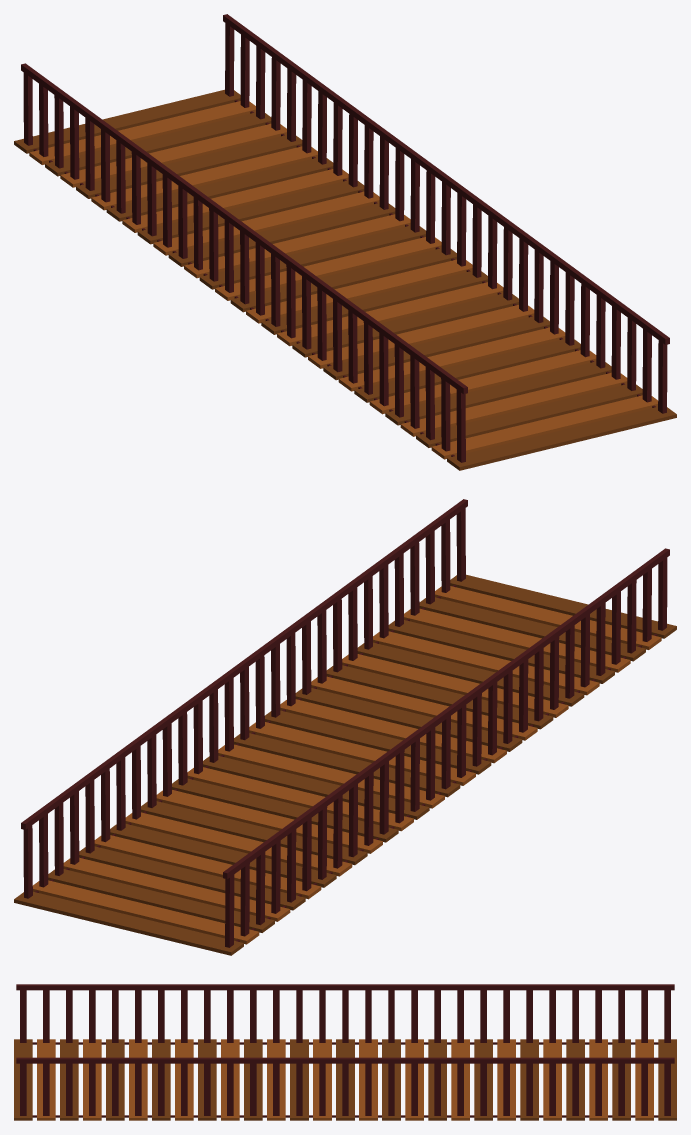
Rendered from brug.fbx.
3 views of the same model, one above another, from view 1: azimuth 30°, elevation 25°; view 2: azimuth 150°, elevation 25°; view 3: azimuth 270°, elevation 25° (orthographic). The views are drawn at different scales.
Parts seen in each view (by area): view 1: Cube.004; view 2: Cube.004; view 3: Cube.004.
Part boxes in pixels (x1=…): Cube.004: x1=14, y1=14, x2=676, y2=470; Cube.004: x1=14, y1=499, x2=676, y2=955; Cube.004: x1=14, y1=984, x2=676, y2=1120.
Bounding box in the file's own units: 5.68 × 2 × 20.17.
